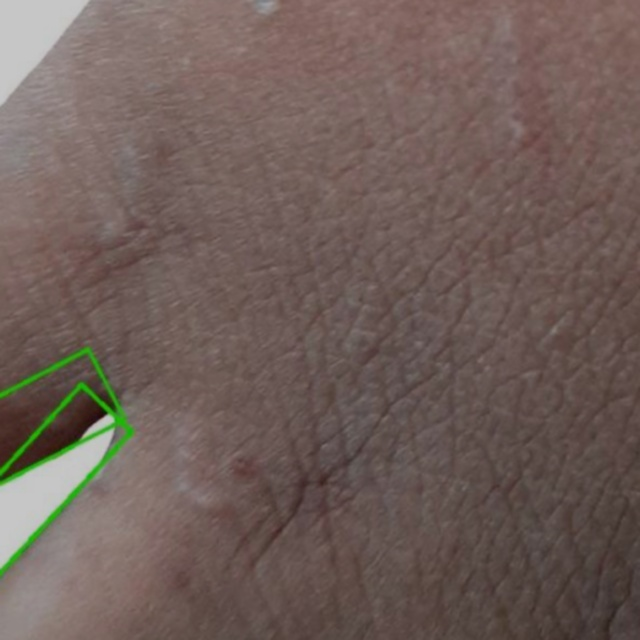Scabies: (0, 385, 139, 620), (0, 349, 132, 504)
